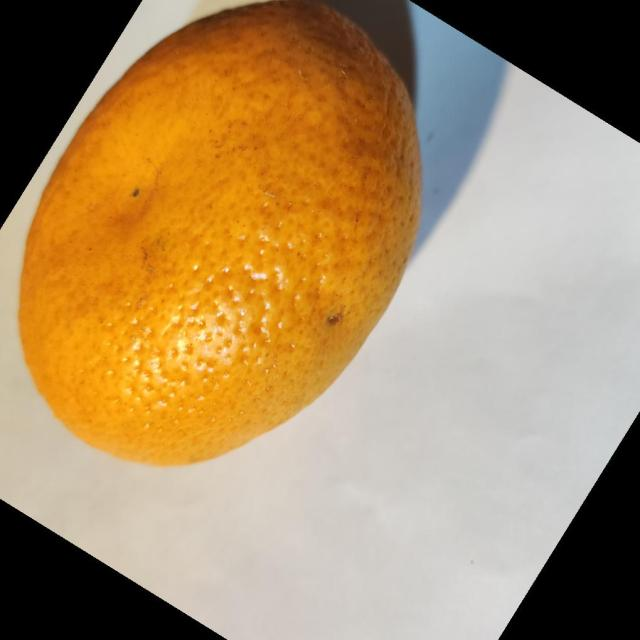fresh orange: (16, 0, 423, 467)
